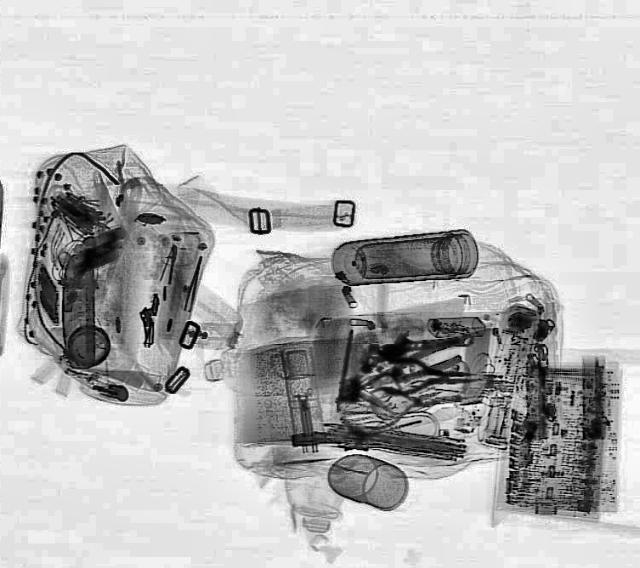Pliers: (379, 353, 483, 396)
Wrench: (381, 324, 477, 360)
